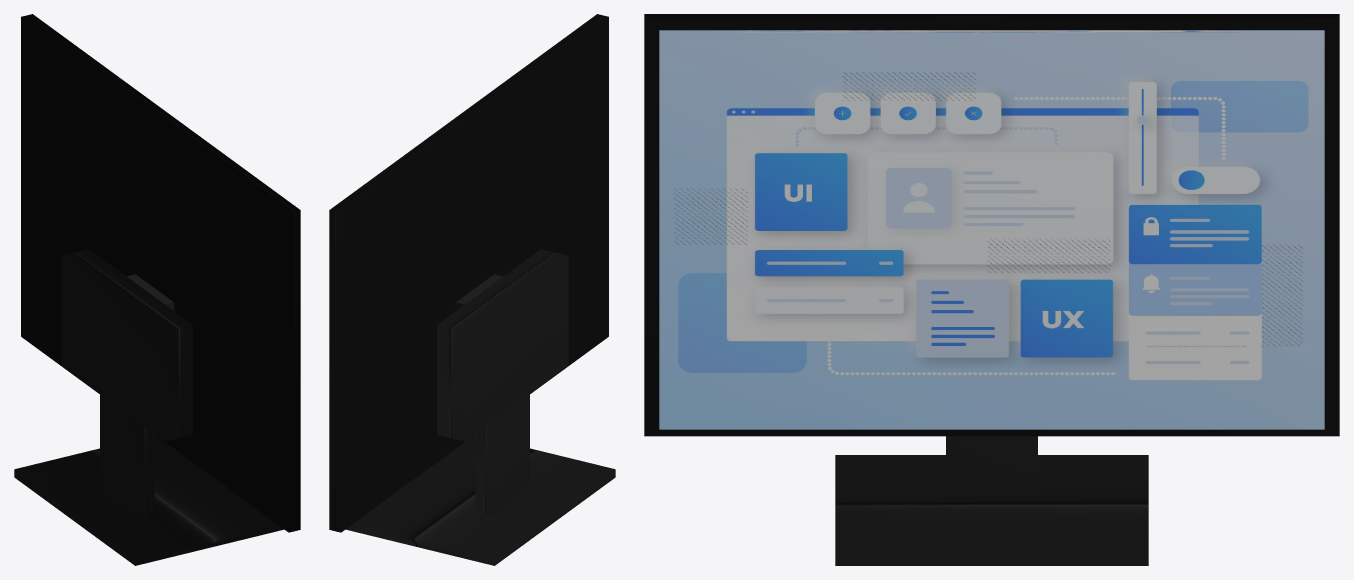
File: pc-designer-ui-ux.glb
The picture shows the model from 3 angles, left to right: view 1: azimuth 30°, elevation 25°; view 2: azimuth 150°, elevation 25°; view 3: azimuth 270°, elevation 25°; orthographic projection. The views are drawn at different scales.
Parts seen in each view (by area): view 1: Computadora; view 2: Computadora; view 3: Computadora.
Boxes of the visible parts, x1,y1,x2,y2 form: Computadora: (14, 14, 300, 565); Computadora: (329, 14, 615, 565); Computadora: (644, 14, 1339, 565).
Bounding box in the file's own units: 2.46 × 5.74 × 7.2.
Materials: 3 (1 with a texture image).
